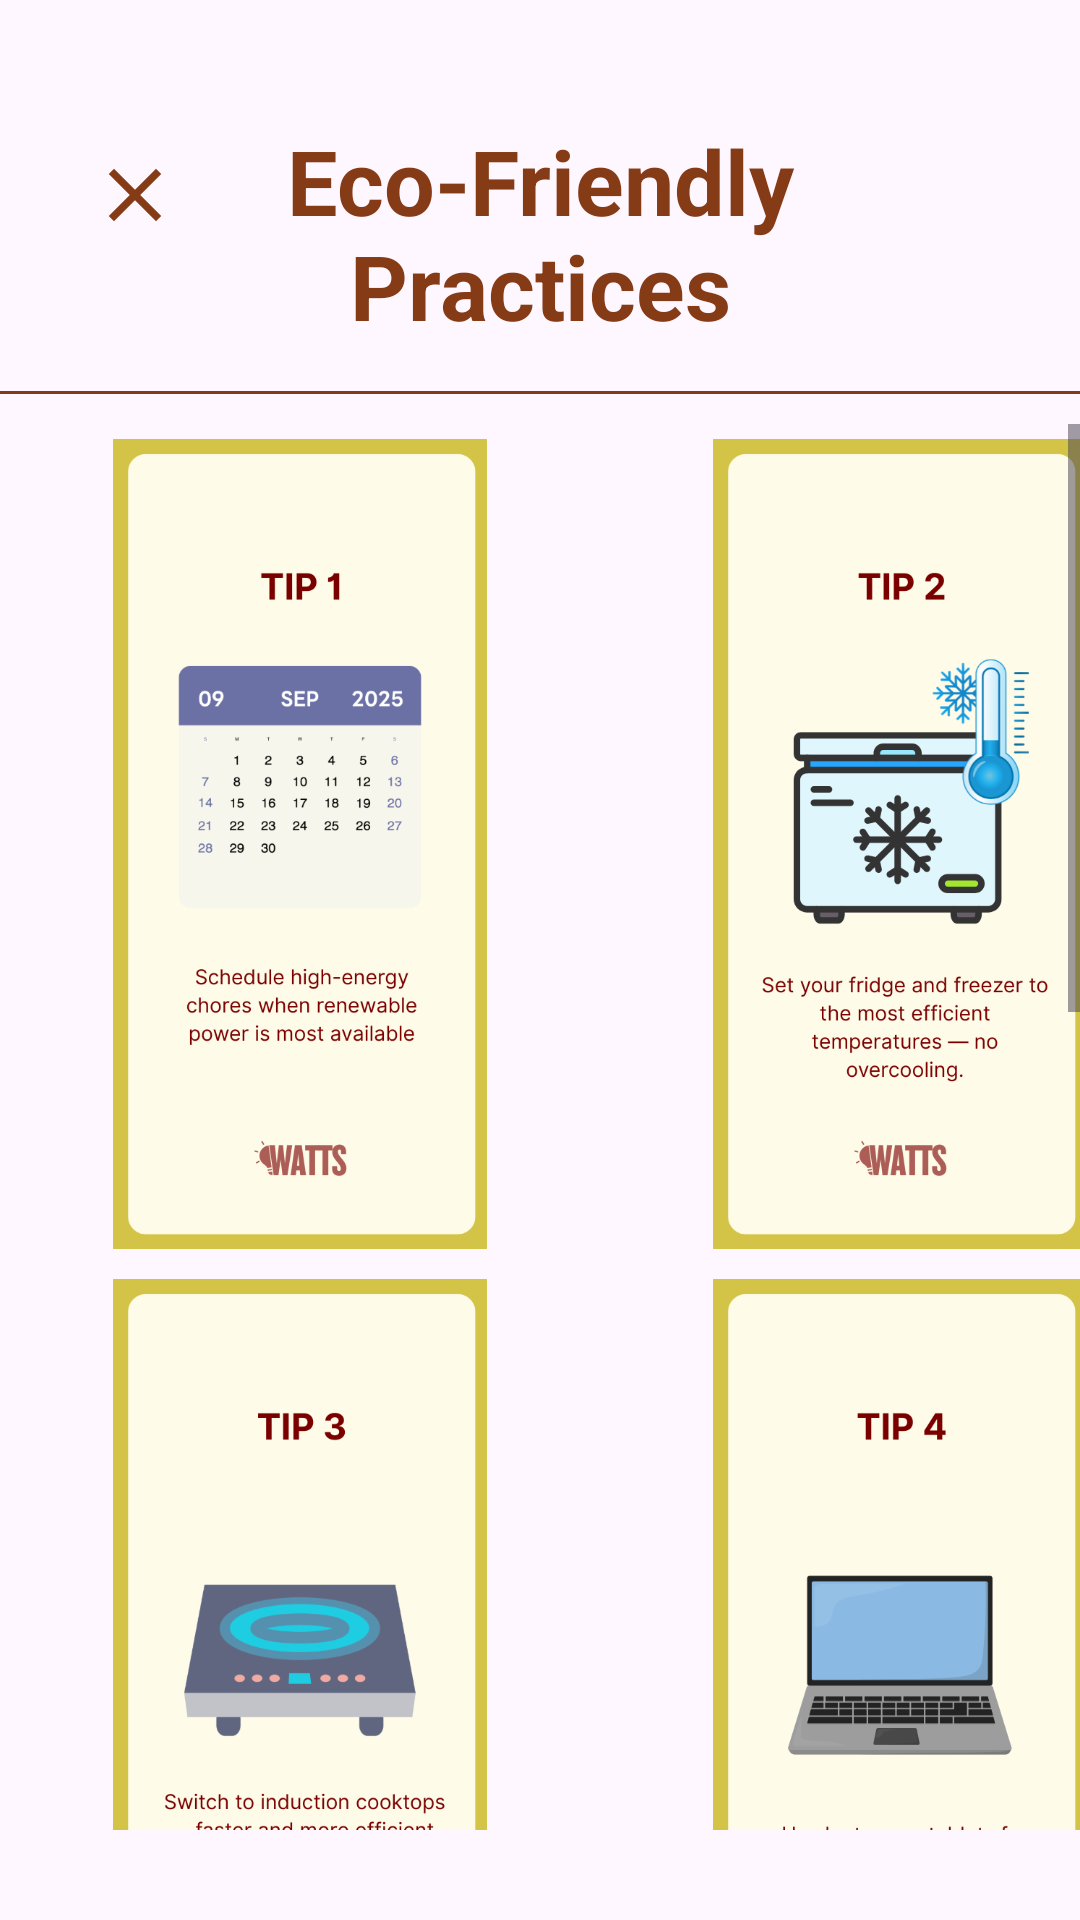

Icon click points for this 1080×1920 phone screenshot, format (x=x, y=y):
close: (x=135, y=195)
